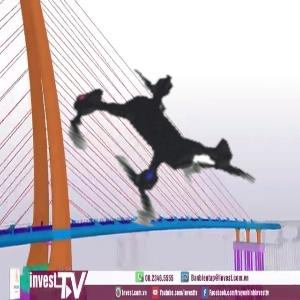drone: (8, 1, 299, 292)
